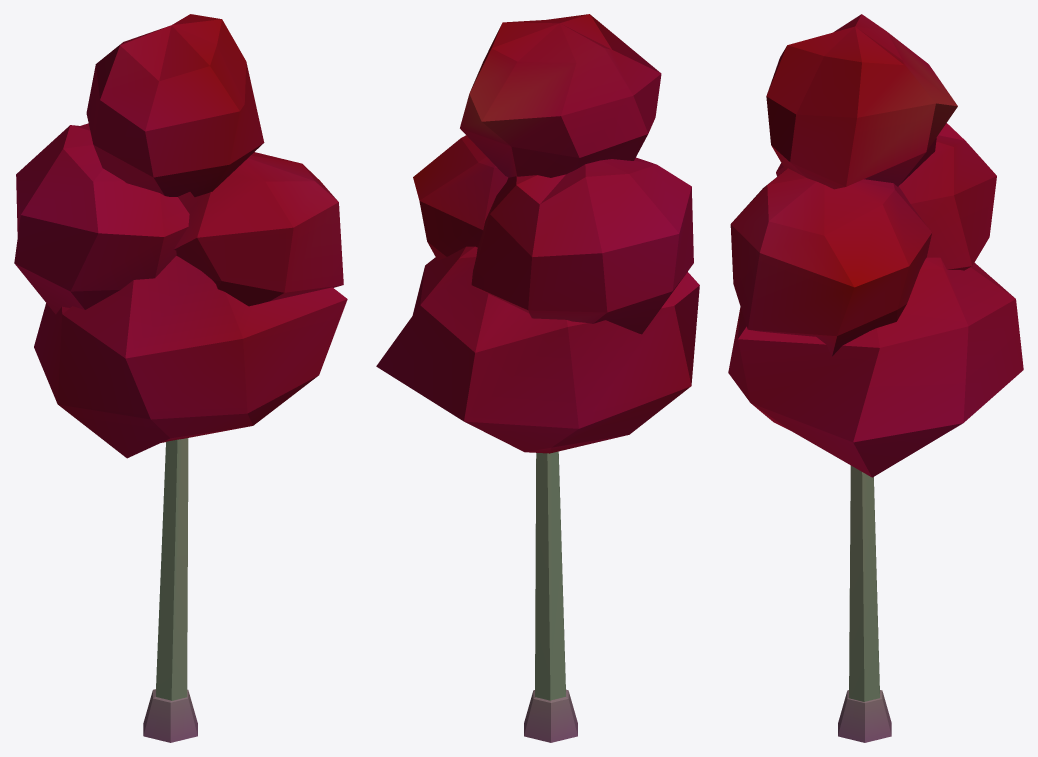
Rendered from Tree_Beech_Young_01.glb.
3 renders of one model, left to right at view 1: azimuth 30°, elevation 25°; view 2: azimuth 150°, elevation 25°; view 3: azimuth 270°, elevation 25°, orthographic.
Visible parts, largest first — view 1: Tree_Beech_Young_01; view 2: Tree_Beech_Young_01; view 3: Tree_Beech_Young_01.
Boxes of the visible parts, x1=… form: Tree_Beech_Young_01: x1=14, y1=14, x2=347, y2=742; Tree_Beech_Young_01: x1=376, y1=14, x2=699, y2=742; Tree_Beech_Young_01: x1=728, y1=14, x2=1023, y2=742.
Bounding box in the file's own units: 2.12 × 5 × 1.9.
